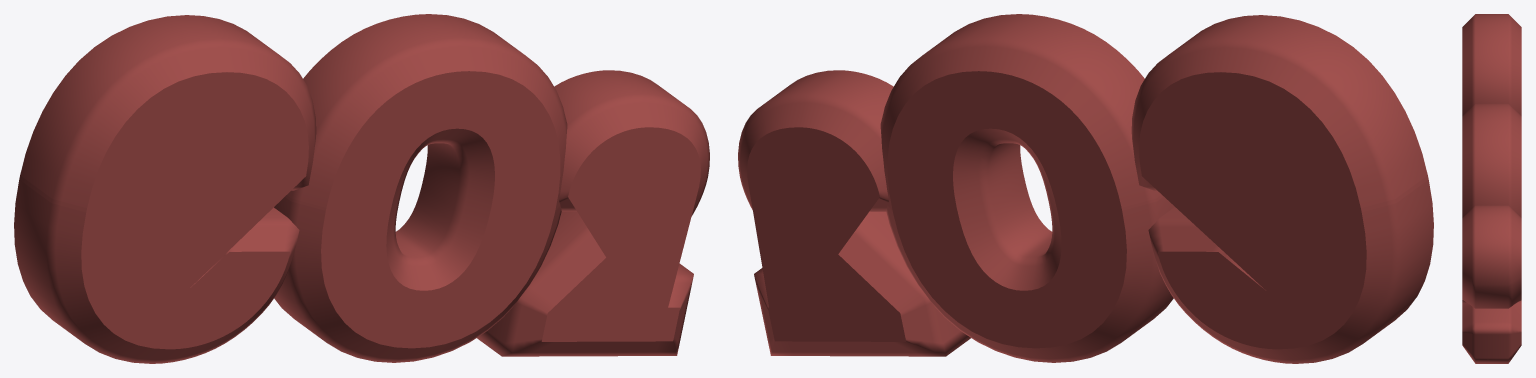
3 views of the same model, side by side, from view 1: azimuth 30°, elevation 25°; view 2: azimuth 150°, elevation 25°; view 3: azimuth 270°, elevation 25° (orthographic). The views are drawn at different scales.
Visible parts, largest first — view 1: polySurface1; view 2: polySurface1; view 3: polySurface1.
Boxes of the visible parts, bbox=[...] form: polySurface1: bbox=[14, 14, 709, 363]; polySurface1: bbox=[738, 14, 1433, 363]; polySurface1: bbox=[1462, 14, 1521, 363].
Size of the model in its own units: 4.45 by 2.77 by 0.675.
